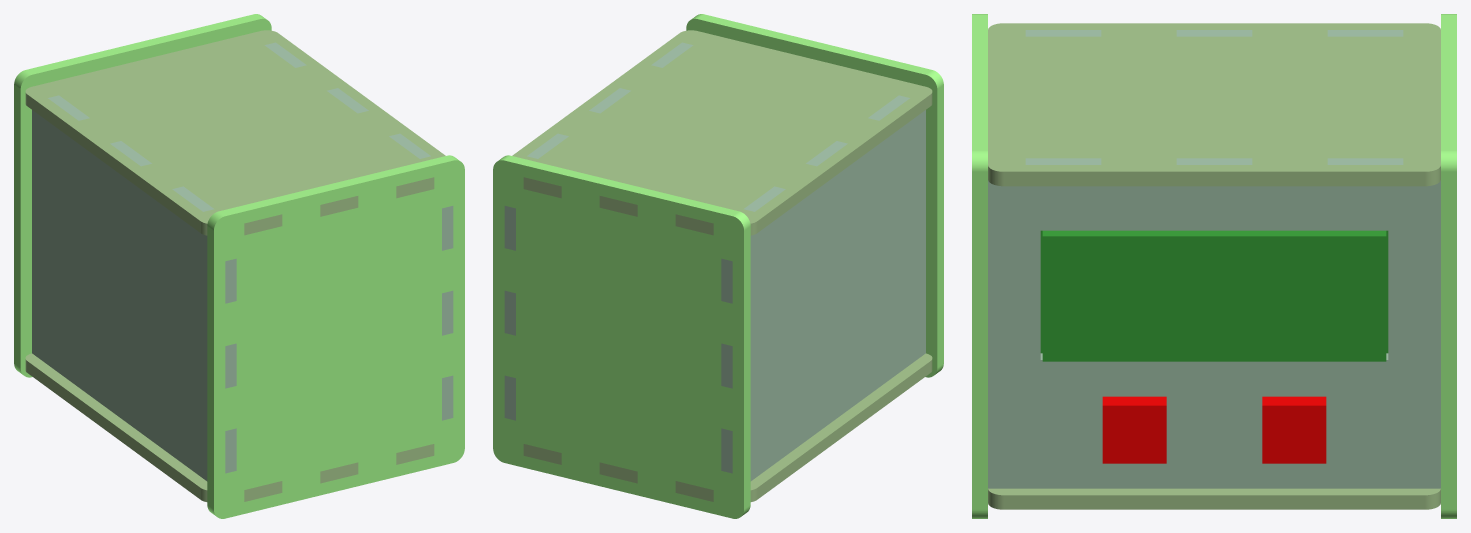
The picture shows the model from 3 angles, left to right: view 1: azimuth 30°, elevation 25°; view 2: azimuth 150°, elevation 25°; view 3: azimuth 270°, elevation 25°; orthographic projection. The views are drawn at different scales.
Parts seen in each view (by area): view 1: out-box-left, out-box-back, out-box-top, out-box-right, out-box-bottom, out-box-front; view 2: out-box-right, out-box-back, out-box-top, out-box-left, out-box-bottom, out-box-front; view 3: out-box-front, out-box-top, out-screen, out-box-bottom, out-box-right, out-box-left, out-buttonB-push, out-buttonA-push, out-box-back.
Boxes of the visible parts, x1=… form: out-box-left: x1=207, y1=155, x2=464, y2=518; out-box-back: x1=32, y1=95, x2=236, y2=481; out-box-top: x1=25, y1=30, x2=445, y2=235; out-box-right: x1=14, y1=14, x2=271, y2=377; out-box-bottom: x1=25, y1=353, x2=434, y2=501; out-box-front: x1=264, y1=42, x2=453, y2=420; out-box-right: x1=493, y1=155, x2=750, y2=518; out-box-back: x1=721, y1=95, x2=925, y2=481; out-box-top: x1=512, y1=30, x2=932, y2=235; out-box-left: x1=686, y1=14, x2=943, y2=377; out-box-bottom: x1=523, y1=353, x2=932, y2=501; out-box-front: x1=504, y1=42, x2=693, y2=420; out-box-front: x1=988, y1=158, x2=1440, y2=488; out-box-top: x1=988, y1=23, x2=1440, y2=186; out-screen: x1=1040, y1=230, x2=1388, y2=361; out-box-bottom: x1=988, y1=488, x2=1440, y2=509; out-box-right: x1=1441, y1=14, x2=1456, y2=518; out-box-left: x1=972, y1=14, x2=987, y2=518; out-buttonB-push: x1=1262, y1=396, x2=1326, y2=463; out-buttonA-push: x1=1102, y1=396, x2=1166, y2=463; out-box-back: x1=1025, y1=30, x2=1403, y2=36.
Bounding box in the file's own units: 0.067 × 0.076 × 0.091.
